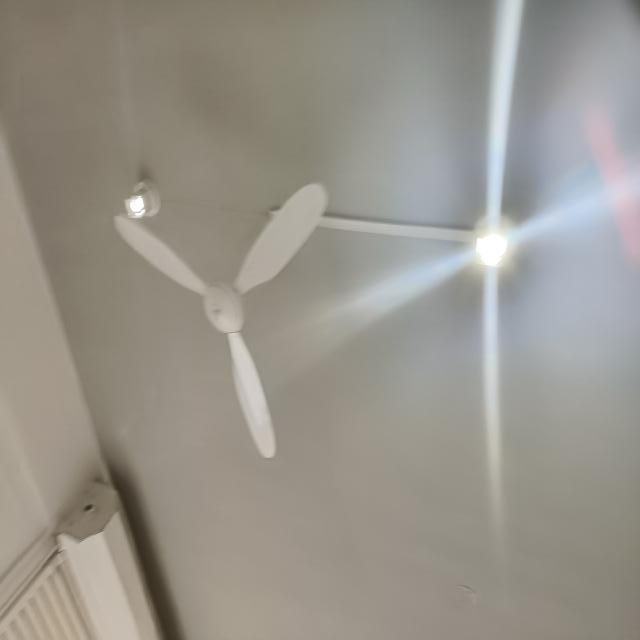fluorescent tube: (447, 183, 532, 333), (114, 132, 168, 265)
